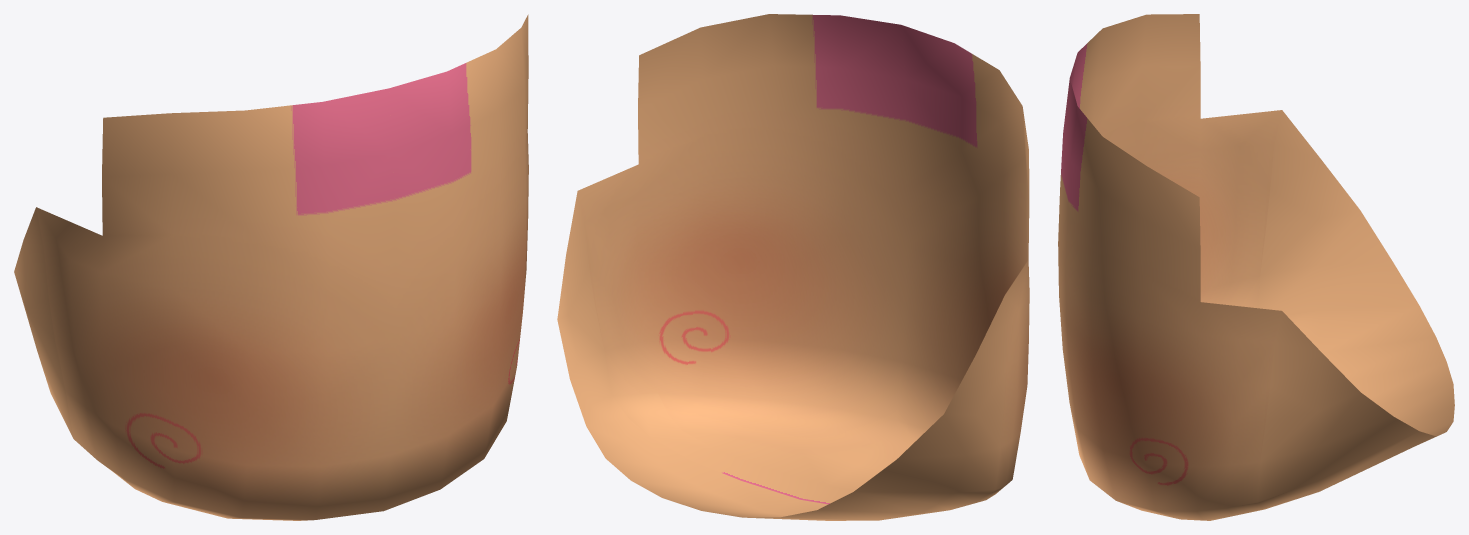
The model's file is Faceline_5.glb.
The picture shows the model from 3 angles, left to right: view 1: azimuth 30°, elevation 25°; view 2: azimuth 150°, elevation 25°; view 3: azimuth 270°, elevation 25°; orthographic projection. The views are drawn at different scales.
Parts seen in each view (by area): view 1: Head05; view 2: Head05; view 3: Head05.
Part boxes in pixels (bbox=[...]): Head05: bbox=[14, 14, 528, 520]; Head05: bbox=[557, 14, 1029, 520]; Head05: bbox=[1058, 14, 1454, 520].
Size of the model in its own units: 52.6 by 48.06 by 43.9.
Materials: 1 (1 with a texture image).
